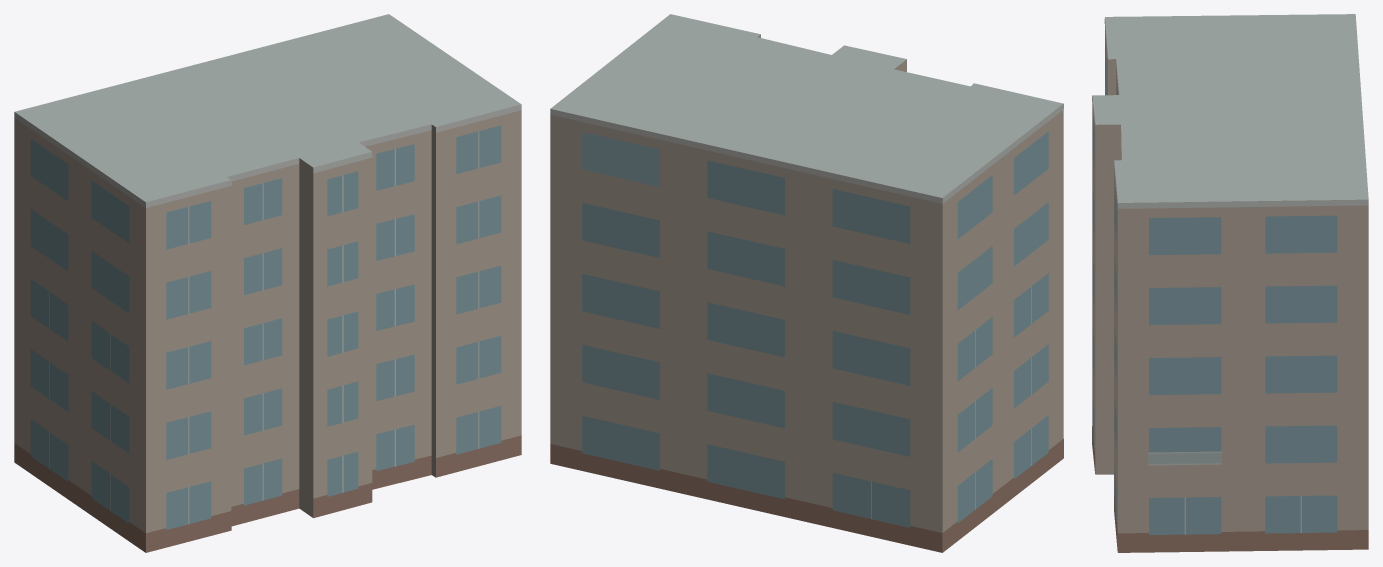
Rendered from survey-upis-32955635.glb.
3 views of the same model, side by side, from view 1: azimuth 30°, elevation 25°; view 2: azimuth 150°, elevation 25°; view 3: azimuth 270°, elevation 25° (orthographic).
Visible parts, largest first — view 1: survey-upis-32955635.tmp; view 2: survey-upis-32955635.tmp; view 3: survey-upis-32955635.tmp.
Part boxes in pixels (<box>): survey-upis-32955635.tmp: <box>14,14,521,552</box>; survey-upis-32955635.tmp: <box>550,14,1063,552</box>; survey-upis-32955635.tmp: <box>1092,14,1368,552</box>.
Bounding box in the file's own units: 17.04 × 14.7 × 10.54.
